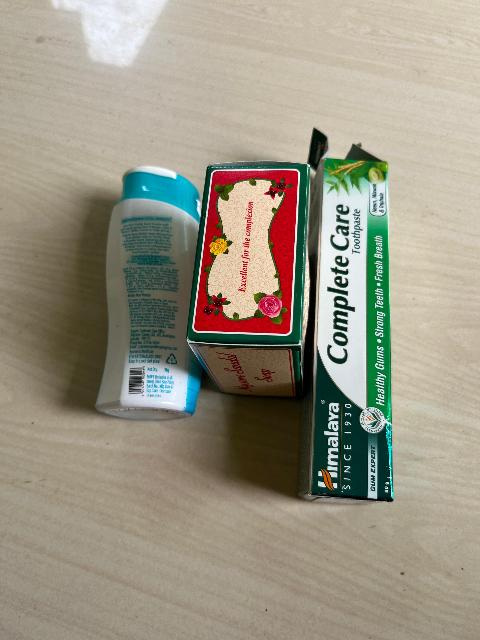boroplus: (110, 170, 202, 422)
himalaya toothpaste: (316, 154, 395, 501)
mysore sandal soap: (194, 165, 304, 401)
